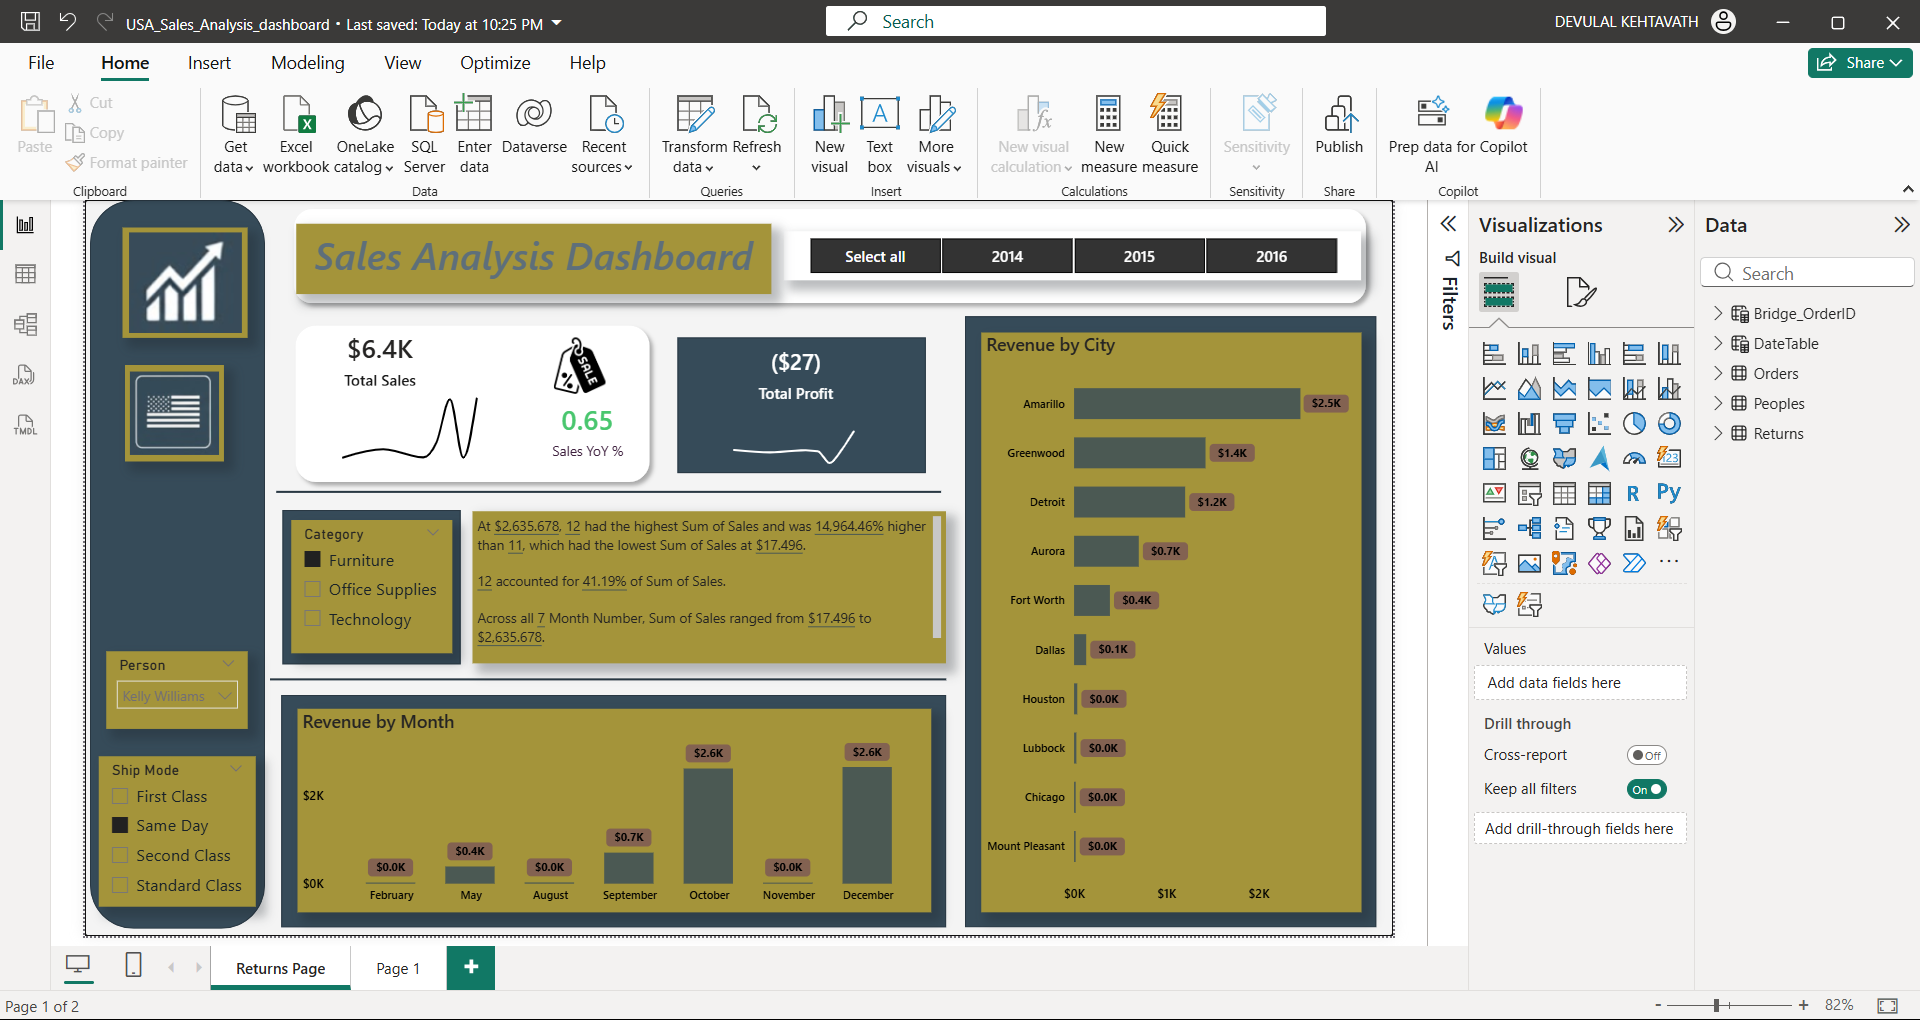

What the dashboard file says about the page in this screenshot:
{"tool":"powerbi","page":{"name":"Returns Page","canvas":[1280,720],"ordinal":0},"visuals":[{"type":"shape","box":[580,133.9,242.9,132.6],"z":0,"group":"g1"},{"type":"shape","box":[193.5,303.3,174.3,150.9],"z":0},{"type":"slicer","fields":{"Values":["Peoples.Person"]},"box":[20.9,441.8,138.6,75.9],"z":0,"group":"g3"},{"type":"shape","box":[196.9,113.7,364.4,171.2],"z":500,"group":"g2"},{"type":"lineChart","fields":{"Category":["DateTable.Month Number"],"Y":["Sum(Orders.Sales)"]},"box":[211.6,172.5,226,86.2],"z":1000,"group":"g2"},{"type":"slicer","fields":{"Values":["Orders.Category"]},"box":[201.7,312.9,157.8,130.4],"z":1000},{"type":"slicer","fields":{"Values":["Orders.Ship Mode"]},"box":[13.5,543.8,153.3,147],"z":1000,"group":"g3"},{"type":"shape","box":[10.1,7.9,171.3,712.3],"z":2000},{"type":"image","box":[36.8,26.9,122.6,107.9],"z":2000,"group":"g3"},{"type":"image","box":[426.7,129.3,114.4,65.2],"z":3000,"group":"g2"},{"type":"image","box":[38.9,160.8,96.6,94.2],"z":3000,"group":"g3"},{"type":"shape","box":[192,484.2,650.5,227.4],"z":3000},{"type":"shape","box":[860.9,113.7,402.3,598],"z":4000},{"type":"group","id":"g1","title":"Group 2","box":[580,133.9,242.9,132.6],"z":5000},{"type":"card","fields":{"Values":["Sum(Orders.Sales)"]},"box":[217.6,129.3,149.7,71],"z":6000,"group":"g2"},{"type":"lineChart","fields":{"Y":["Sum(Orders.Profit)"],"Category":["DateTable.Month Number"]},"box":[596.7,200.5,205.4,64.8],"z":6000},{"type":"shape","box":[196.2,0,1066.2,109.8],"z":7000},{"type":"card","fields":{"Values":["Sum(Orders.Profit)"]},"box":[598.7,135.6,203,81.9],"z":7000,"group":"g1"},{"type":"card","fields":{"Values":["Bridge_OrderID.Sales YoY %"]},"box":[443.6,185.2,96,80.4],"z":7000,"group":"g2"},{"type":"columnChart","title":"Revenue by Month","fields":{"Category":["DateTable.Month Name","DateTable.Month Number"],"Y":["Sum(Orders.Sales)"]},"box":[207.9,497.7,620,199.3],"z":8000},{"type":"slicer","fields":{"Values":["DateTable.Year"]},"box":[683.6,30.6,564.9,47.7],"z":9000},{"type":"clusteredBarChart","title":"Revenue by City","fields":{"Category":["Orders.City"],"Y":["Sum(Orders.Sales)"]},"box":[876.8,129.6,371.7,567.4],"z":10000},{"type":"group","id":"g2","title":"Group 1","box":[196.9,113.7,364.4,171.2],"z":11000},{"type":"shape","box":[187.1,280,650.5,11],"z":12000},{"type":"textbox","box":[206.7,23.2,464.7,68.5],"z":13000},{"type":"shape","box":[181,453.7,661.6,30.6],"z":14000},{"type":"textbox","box":[379.1,304.5,463.5,149.2],"z":15000},{"type":"group","id":"g3","title":"Group 4","box":[13.5,26.9,152.9,664],"z":17000}]}

Visuals, with their boxes on the page's 1280x720 design canvas (x1, y1, x2, y2). These are canvas units, not pixel positions in the 1920x1020 screenshot, which may show the page scaled, cropped or inside an application window:
shape: bbox=(580, 134, 823, 266)
shape: bbox=(194, 303, 368, 454)
slicer - Peoples.Person: bbox=(21, 442, 160, 518)
shape: bbox=(197, 114, 561, 285)
lineChart - DateTable.Month Number x Sum(Orders.Sales): bbox=(212, 172, 438, 259)
slicer - Orders.Category: bbox=(202, 313, 360, 443)
slicer - Orders.Ship Mode: bbox=(14, 544, 167, 691)
shape: bbox=(10, 8, 181, 720)
image: bbox=(37, 27, 159, 135)
image: bbox=(427, 129, 541, 194)
image: bbox=(39, 161, 136, 255)
shape: bbox=(192, 484, 842, 712)
shape: bbox=(861, 114, 1263, 712)
"Group 2" group: bbox=(580, 134, 823, 266)
card - Sum(Orders.Sales): bbox=(218, 129, 367, 200)
lineChart - Sum(Orders.Profit) x DateTable.Month Number: bbox=(597, 200, 802, 265)
shape: bbox=(196, 0, 1262, 110)
card - Sum(Orders.Profit): bbox=(599, 136, 802, 218)
card - Bridge_OrderID.Sales YoY %: bbox=(444, 185, 540, 266)
"Revenue by Month" columnChart: bbox=(208, 498, 828, 697)
slicer - DateTable.Year: bbox=(684, 31, 1248, 78)
"Revenue by City" clusteredBarChart: bbox=(877, 130, 1248, 697)
"Group 1" group: bbox=(197, 114, 561, 285)
shape: bbox=(187, 280, 838, 291)
textbox: bbox=(207, 23, 671, 92)
shape: bbox=(181, 454, 843, 484)
textbox: bbox=(379, 304, 843, 454)
"Group 4" group: bbox=(14, 27, 166, 691)
